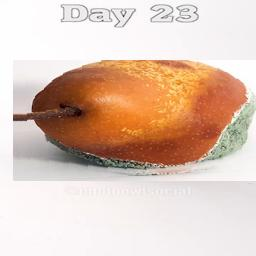Pear Rotten: (13, 60, 256, 181)
